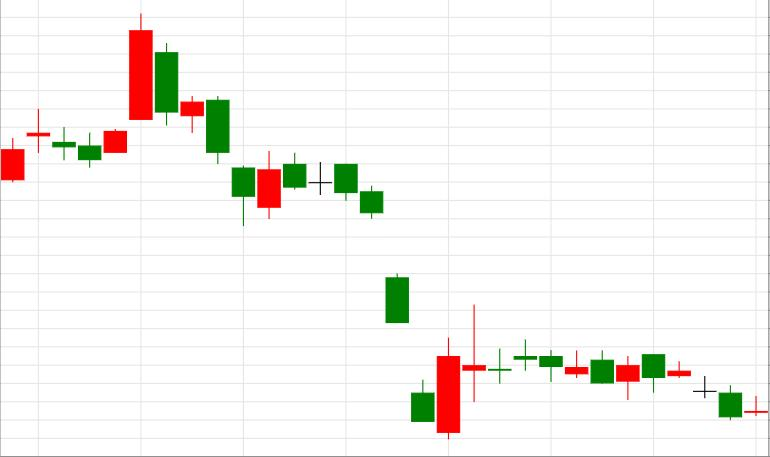bullish_engulfing_rise: (283, 153, 460, 439)
